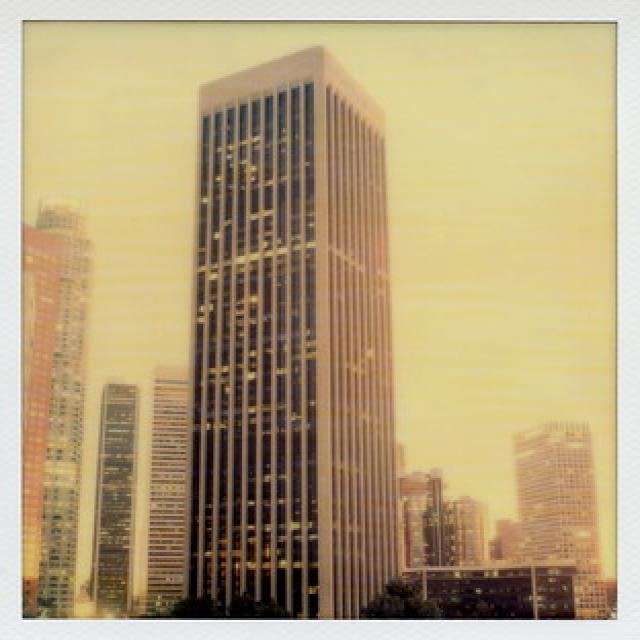Normal_building: (184, 41, 405, 621), (87, 375, 139, 617)
